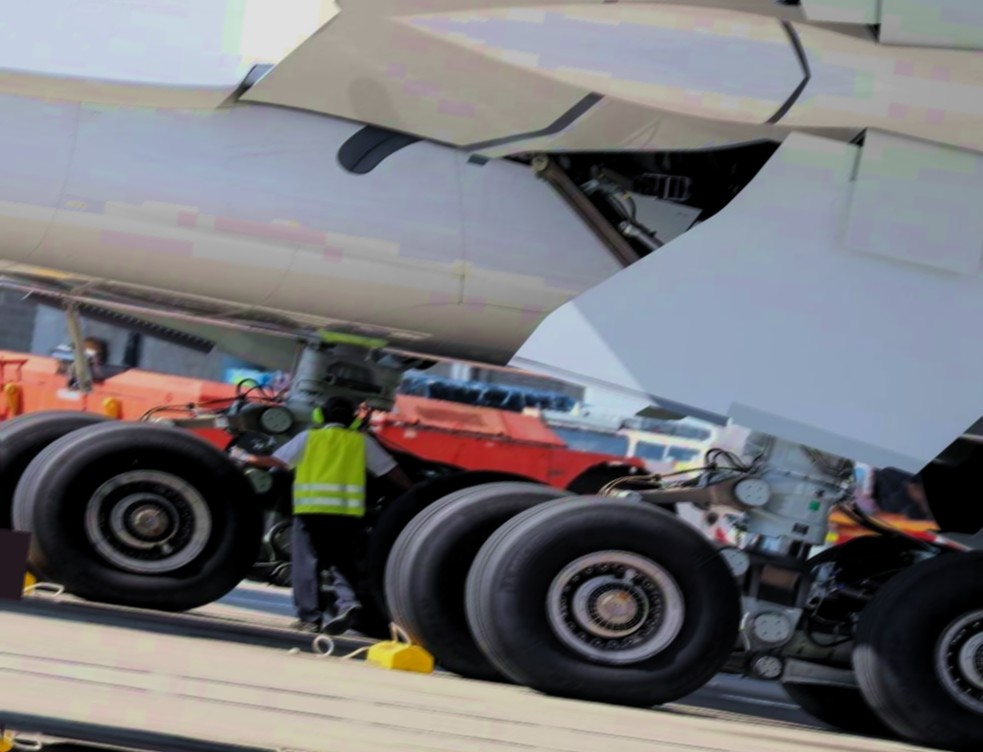chock: (360, 630, 439, 678), (0, 558, 41, 598)
wheel: (439, 472, 754, 715), (0, 401, 277, 621), (365, 460, 598, 689), (771, 519, 965, 743), (832, 530, 983, 750), (0, 391, 124, 589), (562, 455, 664, 509)
